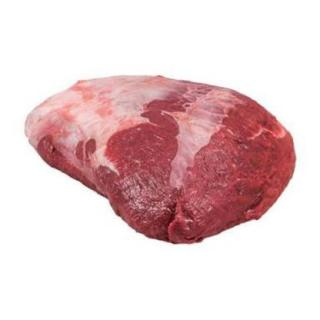Daging Sapi: (25, 77, 296, 248)
